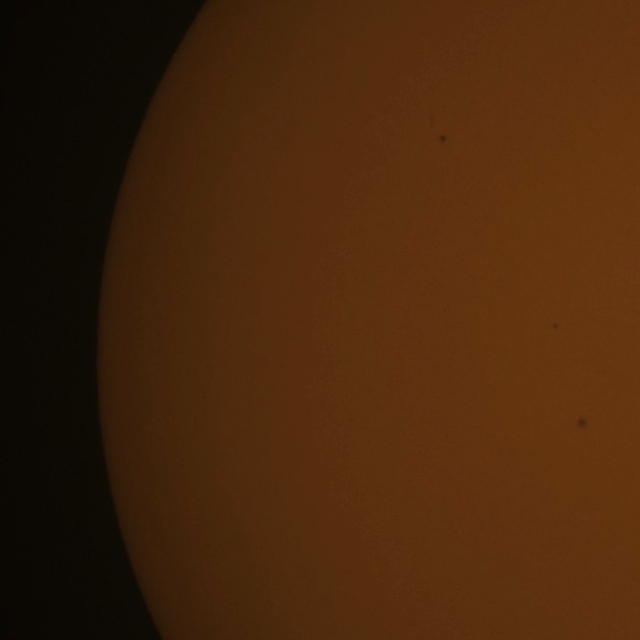sunspot: (575, 416, 588, 430), (437, 133, 448, 144), (549, 321, 559, 331)
